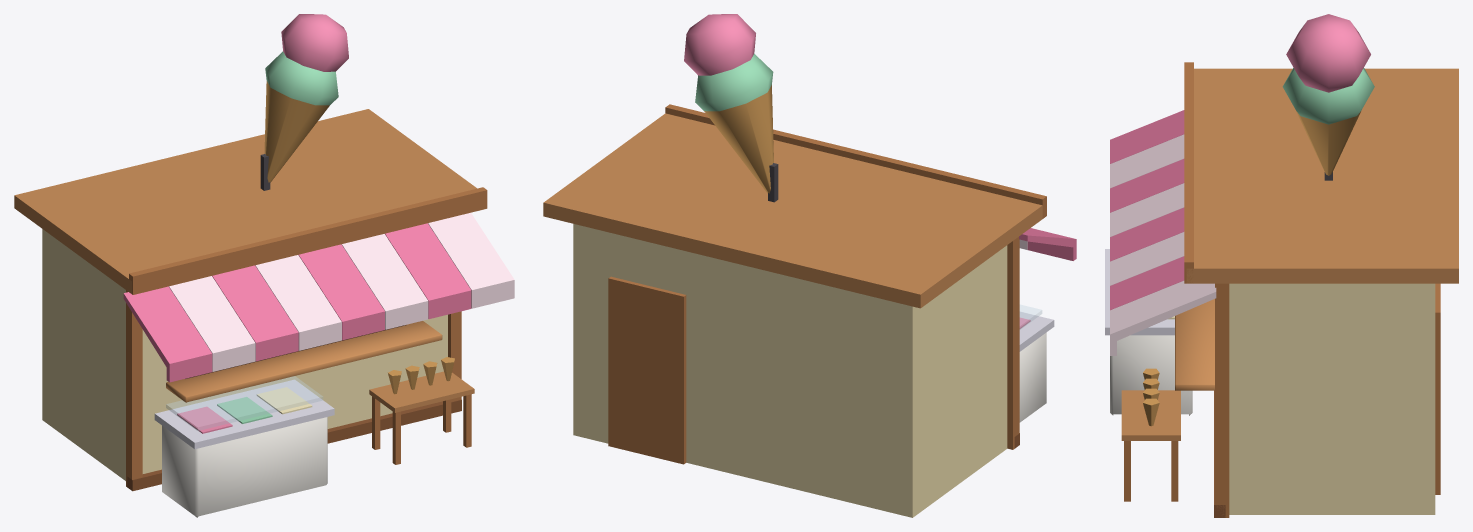
File: ice_cream_kiosk.glb
3 views of the same model, side by side, from view 1: azimuth 30°, elevation 25°; view 2: azimuth 150°, elevation 25°; view 3: azimuth 270°, elevation 25° (orthographic). The views are drawn at different scales.
Visible parts, largest first — view 1: ice_cream_kiosk, glass; view 2: ice_cream_kiosk; view 3: ice_cream_kiosk.
Part boxes in pixels (box(x1,y1,x2,y2)): ice_cream_kiosk: box(14, 14, 514, 517); glass: box(166, 376, 322, 430); ice_cream_kiosk: box(543, 14, 1076, 517); ice_cream_kiosk: box(1105, 14, 1458, 517).
Size of the model in its own units: 4 by 4.12 by 2.99.
Materials: 2 (1 with a texture image).
